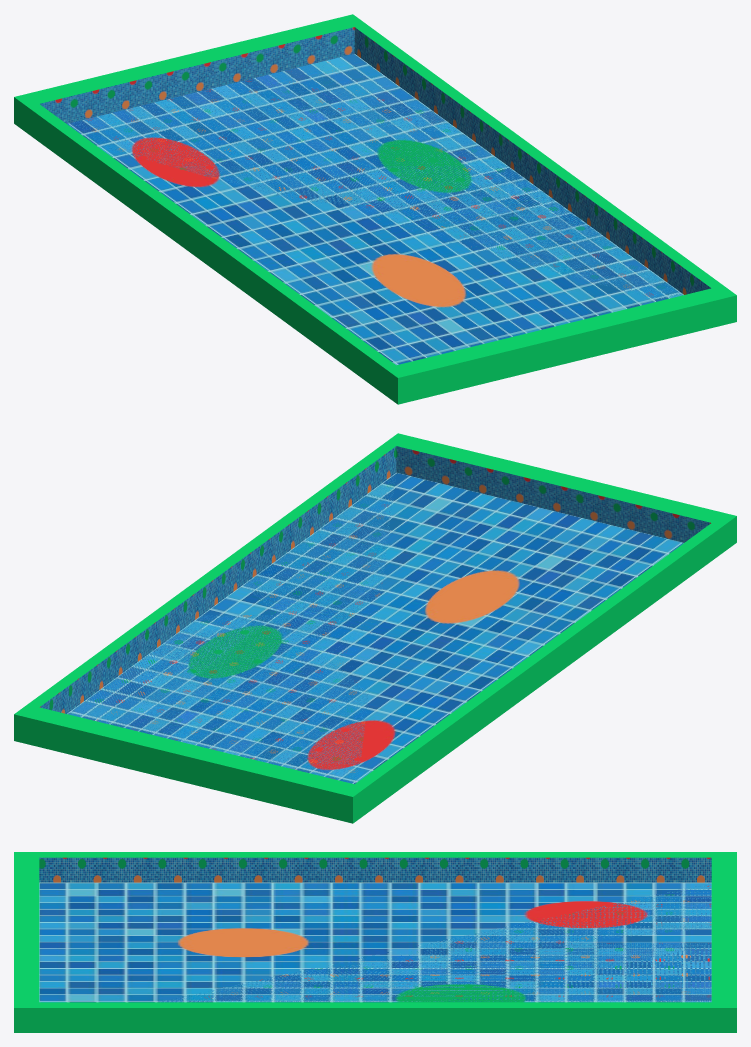
Rendered from pool.dae.
3 renders of one model, top to bottom at view 1: azimuth 30°, elevation 25°; view 2: azimuth 150°, elevation 25°; view 3: azimuth 270°, elevation 25°, orthographic. The views are drawn at different scales.
Parts seen in each view (by area): view 1: Pool; view 2: Pool; view 3: Pool.
Part boxes in pixels (box(x1,y1,x2,y2)): Pool: box(14, 14, 736, 404); Pool: box(14, 433, 736, 823); Pool: box(14, 852, 736, 1032).
Size of the model in its own units: 27.96 by 54.85 by 2.1.
